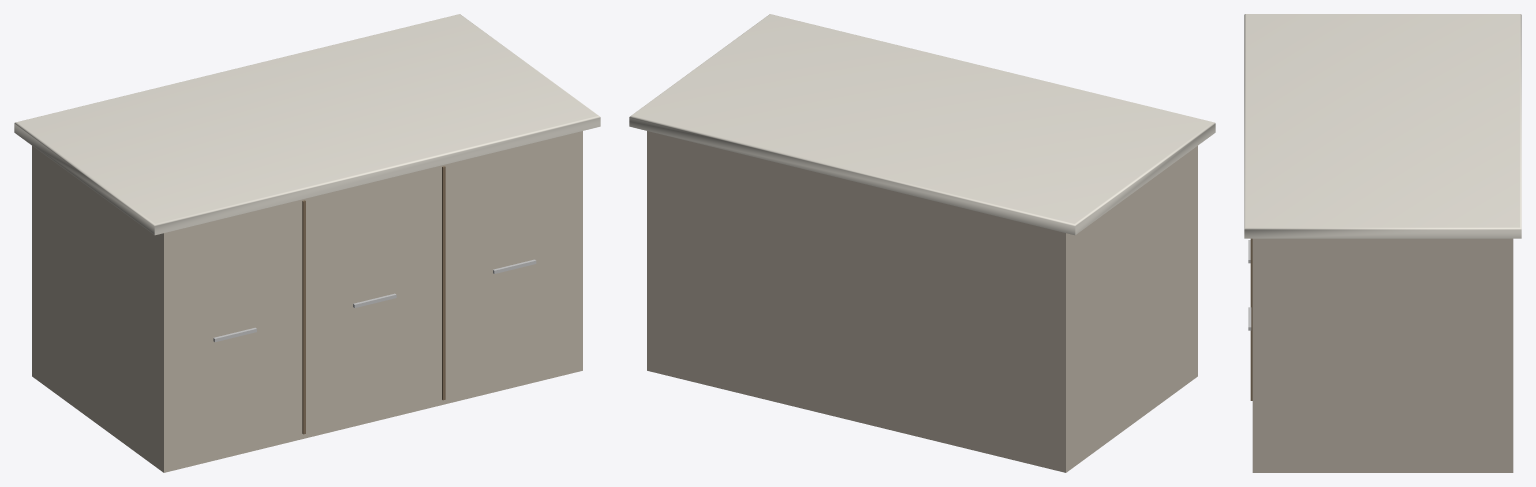
The model's file is kitchen_island.glb.
3 views of the same model, side by side, from view 1: azimuth 30°, elevation 25°; view 2: azimuth 150°, elevation 25°; view 3: azimuth 270°, elevation 25° (orthographic).
Visible parts, largest first — view 1: base, countertop, seam1, seam2; view 2: base, countertop; view 3: countertop, base, seam2.
Boxes of the visible parts, x1,y1,x2,y2 form: base: (32,131,582,472); countertop: (14,14,600,235); seam1: (302,200,305,434); seam2: (442,166,445,400); base: (647,131,1197,472); countertop: (629,14,1215,235); countertop: (1244,14,1521,238); base: (1252,238,1513,472); seam2: (1250,238,1252,400).
Bounding box in the file's own units: 1.68 × 0.9144 × 0.9144.
